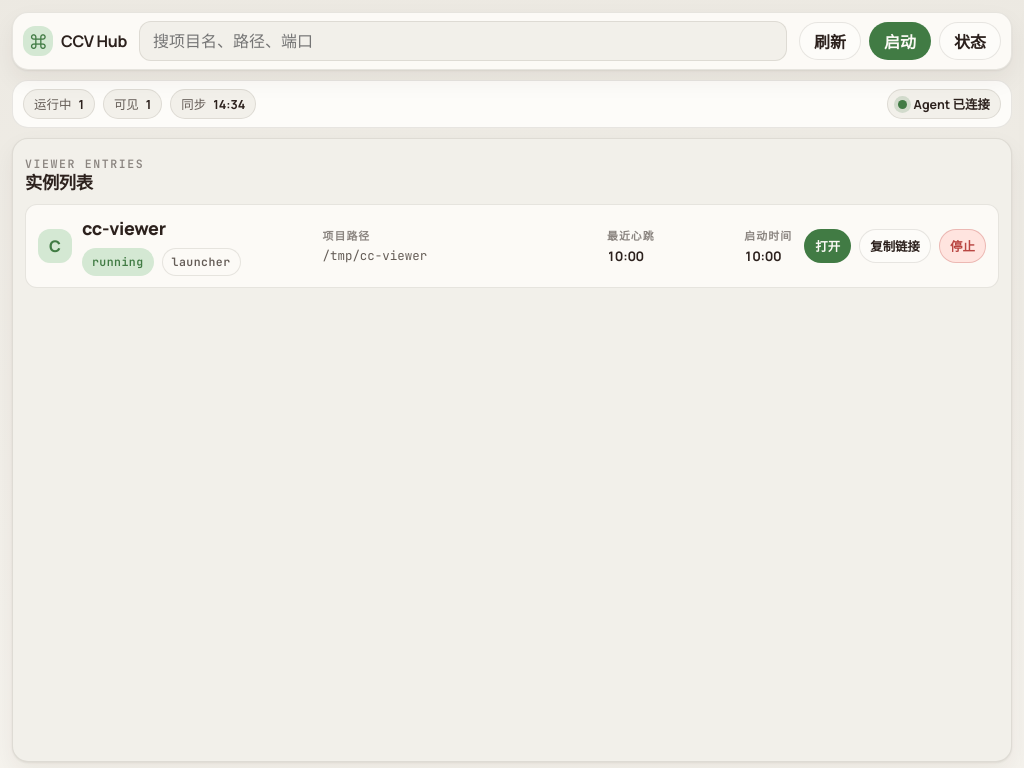
Test: OverviewPage › shows lifecycle failures in toast
Click the button "停止": x=962, y=246 [939,229,986,263]
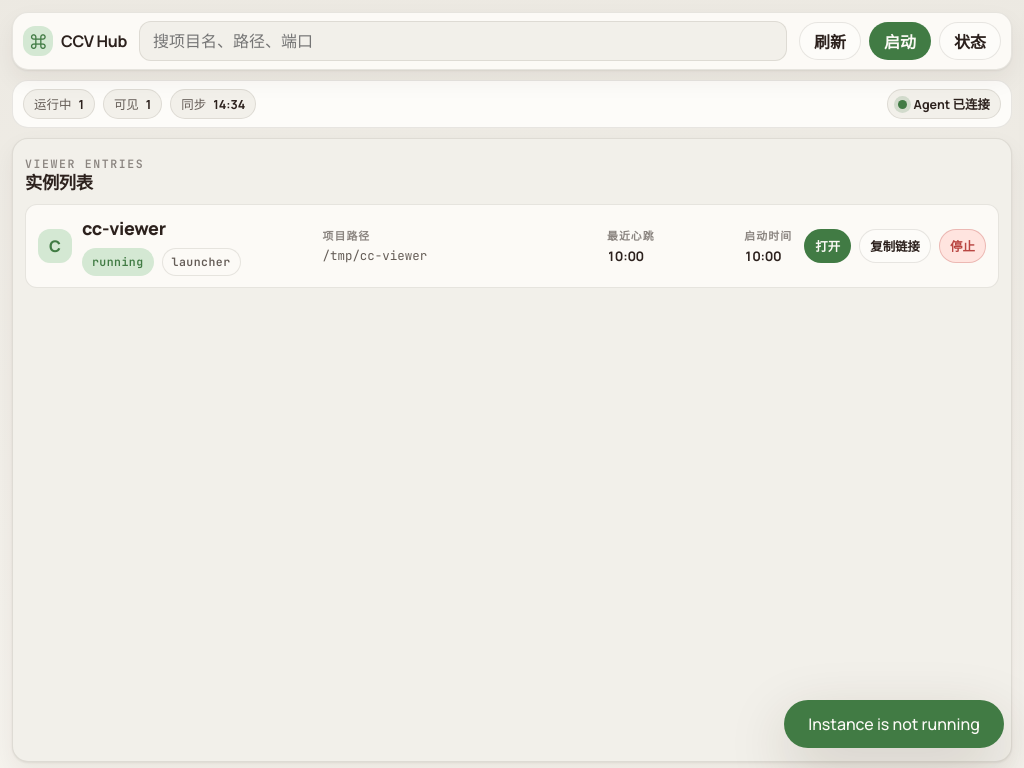
Check: the text "Instance is not running" is shown, box [784,700,1004,748]
